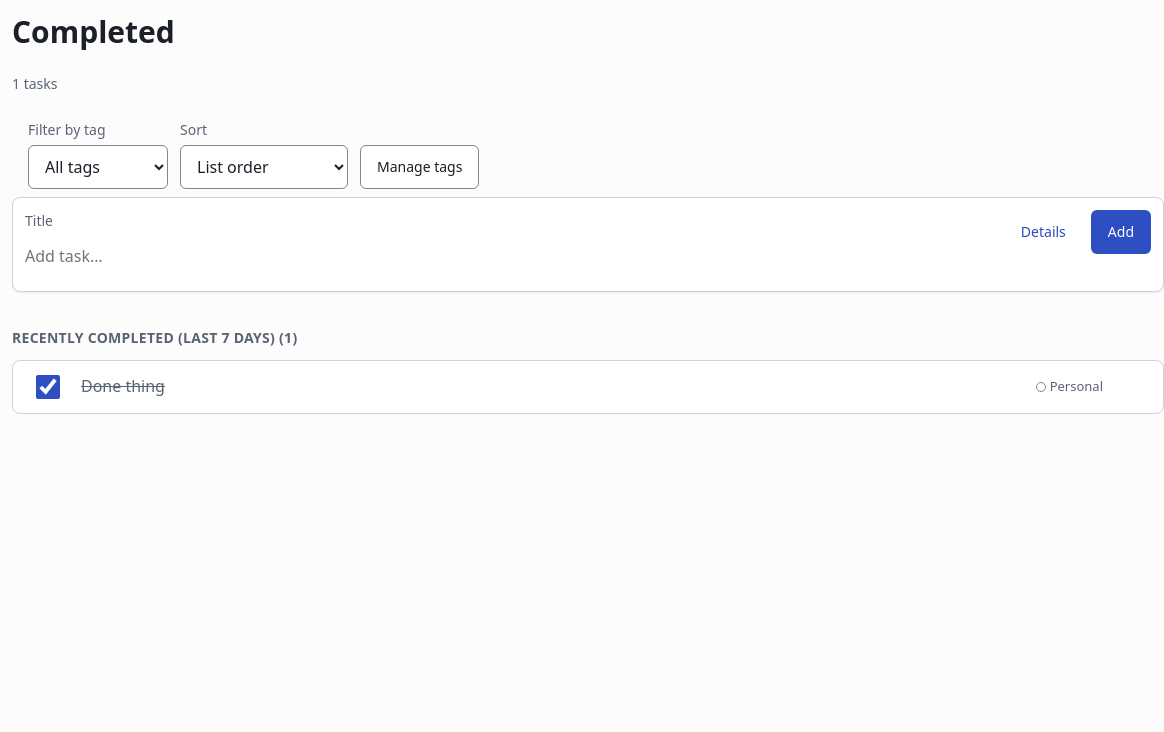
it: S2 rows — structure & M4 complete/uncomplete › reopens a completed row from the Completed view (F3.3)
Click the checkbox named "Mark \"Done thing\" as not complete" at (48, 387), box top-left (36, 375), bottom-right (60, 399)
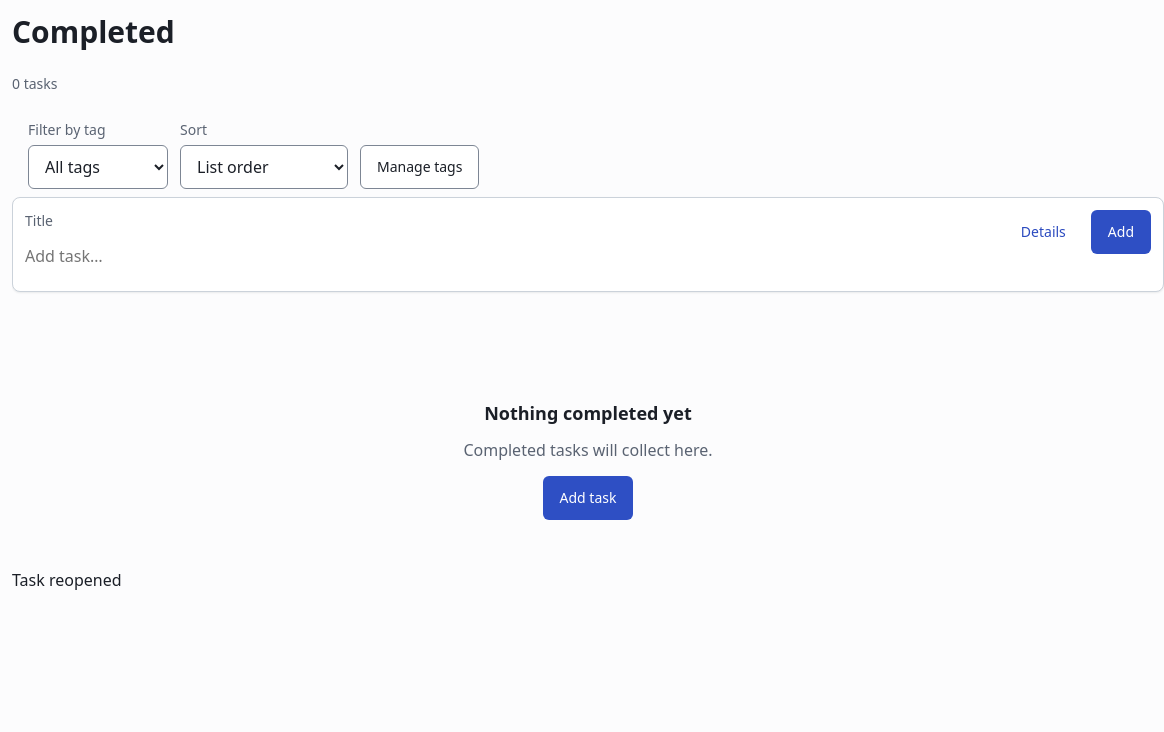
Result: the text "Task reopened" is shown at top-left (12, 569), bottom-right (122, 591)
Result: the checkbox is gone
